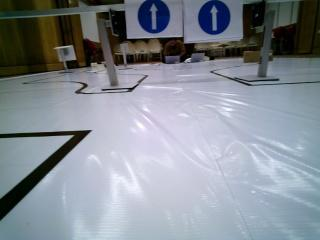straight: (184, 0, 240, 42), (125, 0, 182, 37)
